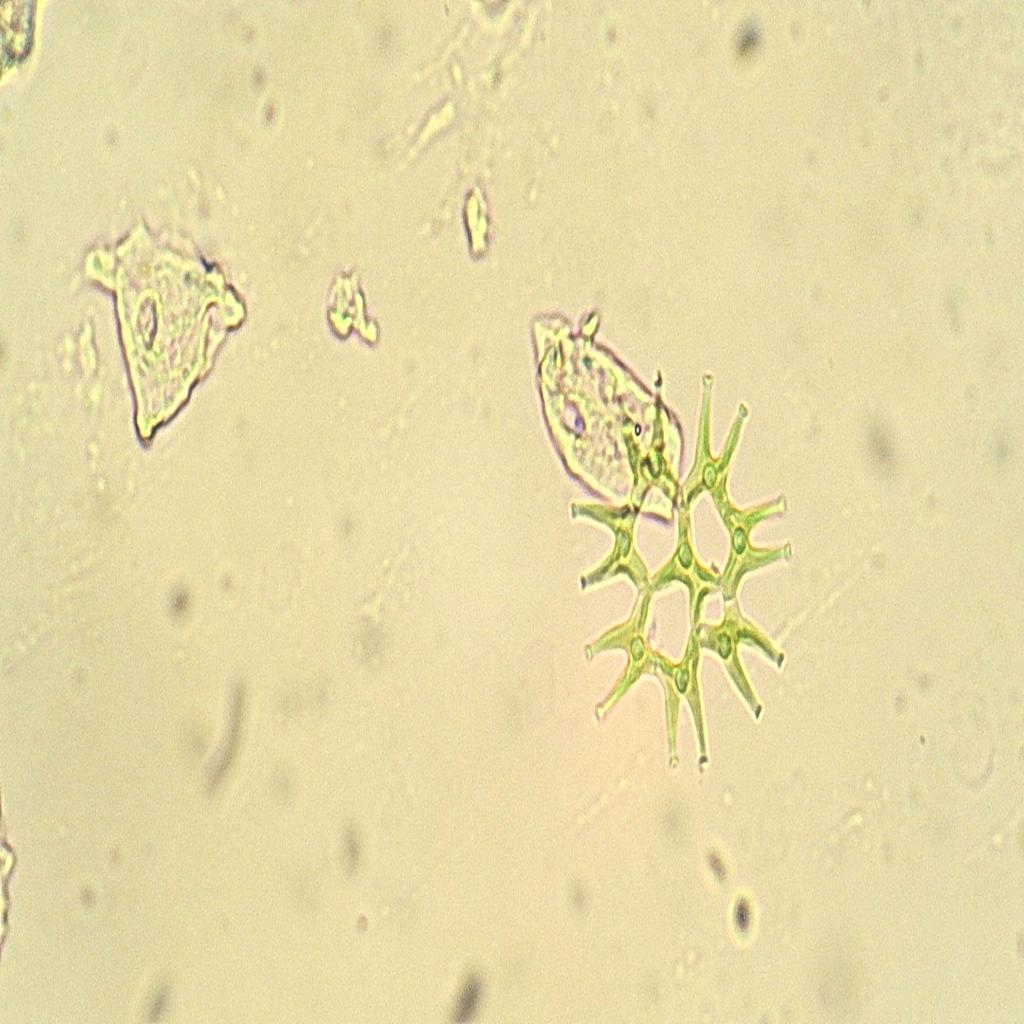Pediastrum_75T: (562, 355, 799, 811)
